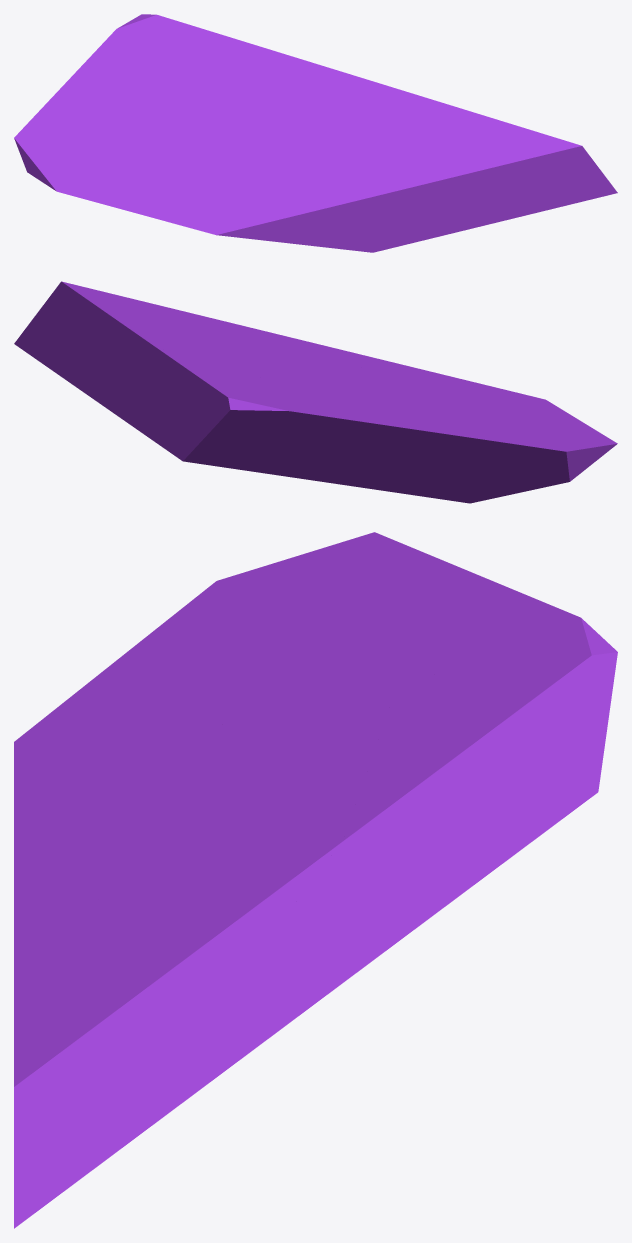
The model's file is Window_163_5_chunks.fbx.
3 views of the same model, one above another, from view 1: azimuth 30°, elevation 25°; view 2: azimuth 150°, elevation 25°; view 3: azimuth 270°, elevation 25° (orthographic). The views are drawn at different scales.
Parts seen in each view (by area): view 1: Window_163_5_0, Window_163_5_6, Window_163_5_5, Window_163_5_2, Window_163_5_3, Window_163_5_1; view 2: Window_163_5_0, Window_163_5_1, Window_163_5_6, Window_163_5_2, Window_163_5_3, Window_163_5_5; view 3: Window_163_5_1, Window_163_5_0, Window_163_5_6, Window_163_5_2, Window_163_5_3, Window_163_5_5.
Boxes of the visible parts, x1=… form: Window_163_5_0: x1=14, y1=35, x2=214, y2=224; Window_163_5_6: x1=344, y1=115, x2=617, y2=233; Window_163_5_5: x1=198, y1=147, x2=452, y2=252; Window_163_5_2: x1=185, y1=71, x2=483, y2=139; Window_163_5_3: x1=179, y1=128, x2=350, y2=229; Window_163_5_1: x1=111, y1=14, x2=339, y2=87; Window_163_5_0: x1=304, y1=391, x2=617, y2=503; Window_163_5_1: x1=80, y1=347, x2=332, y2=483; Window_163_5_6: x1=14, y1=281, x2=274, y2=389; Window_163_5_2: x1=100, y1=308, x2=386, y2=395; Window_163_5_3: x1=250, y1=351, x2=561, y2=409; Window_163_5_5: x1=236, y1=324, x2=553, y2=404; Window_163_5_1: x1=235, y1=613, x2=617, y2=1057; Window_163_5_0: x1=61, y1=532, x2=569, y2=727; Window_163_5_6: x1=14, y1=852, x2=242, y2=1228; Window_163_5_2: x1=147, y1=692, x2=394, y2=987; Window_163_5_3: x1=38, y1=704, x2=248, y2=861; Window_163_5_5: x1=14, y1=723, x2=148, y2=962.
Size of the model in its own units: 958 by 260 by 508.
